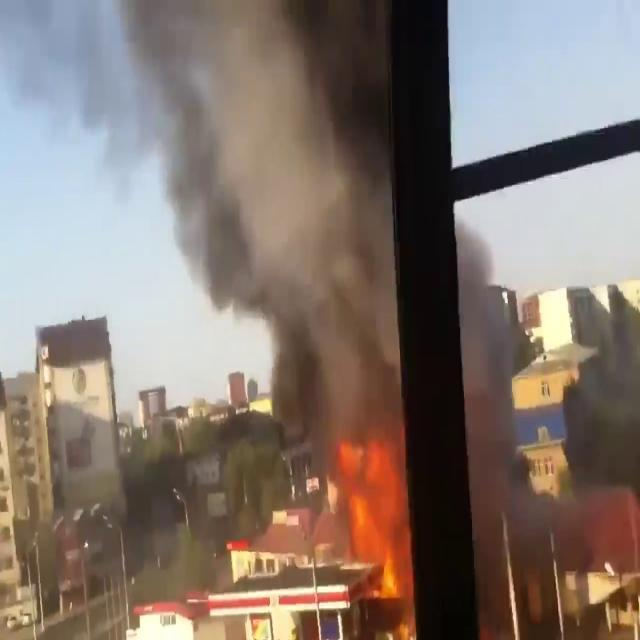Fire: (218, 428, 418, 634)
Smoke: (4, 0, 402, 452)
